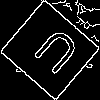U: (25, 25, 83, 84)
